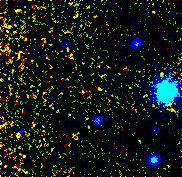star: (147, 60, 177, 90)
